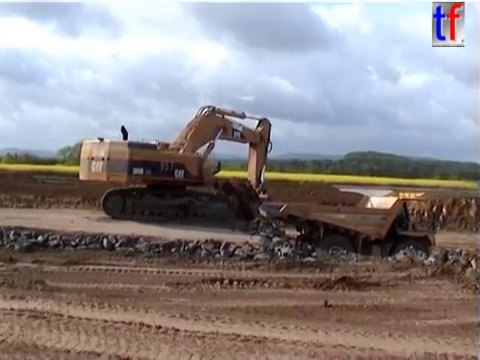excavator: (76, 103, 276, 235)
truck: (256, 190, 437, 279)
